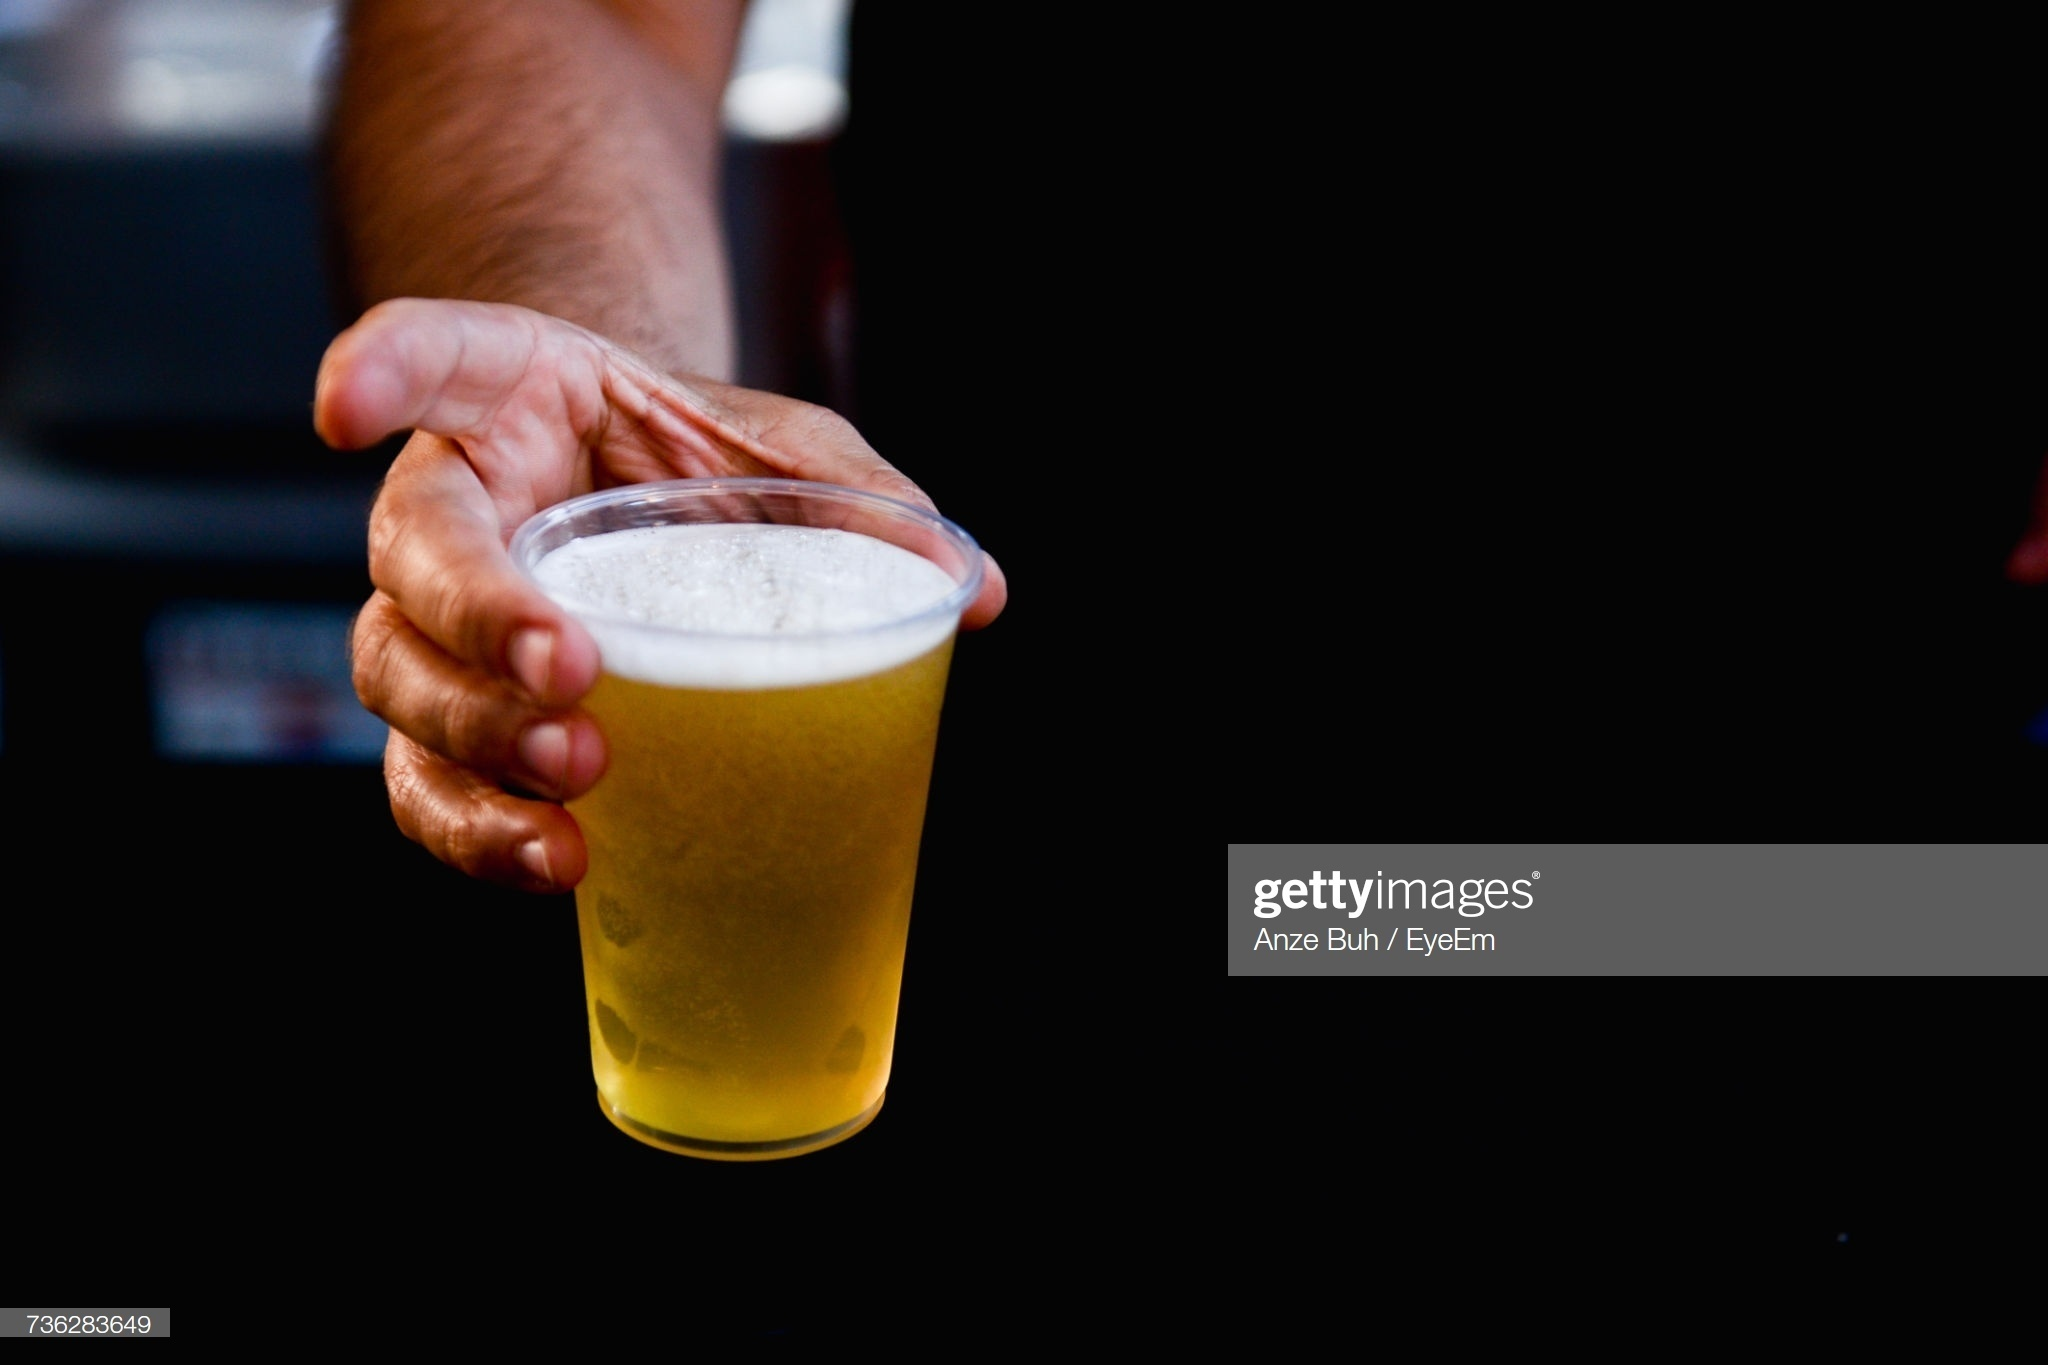whiskey: (538, 475, 971, 1168)
